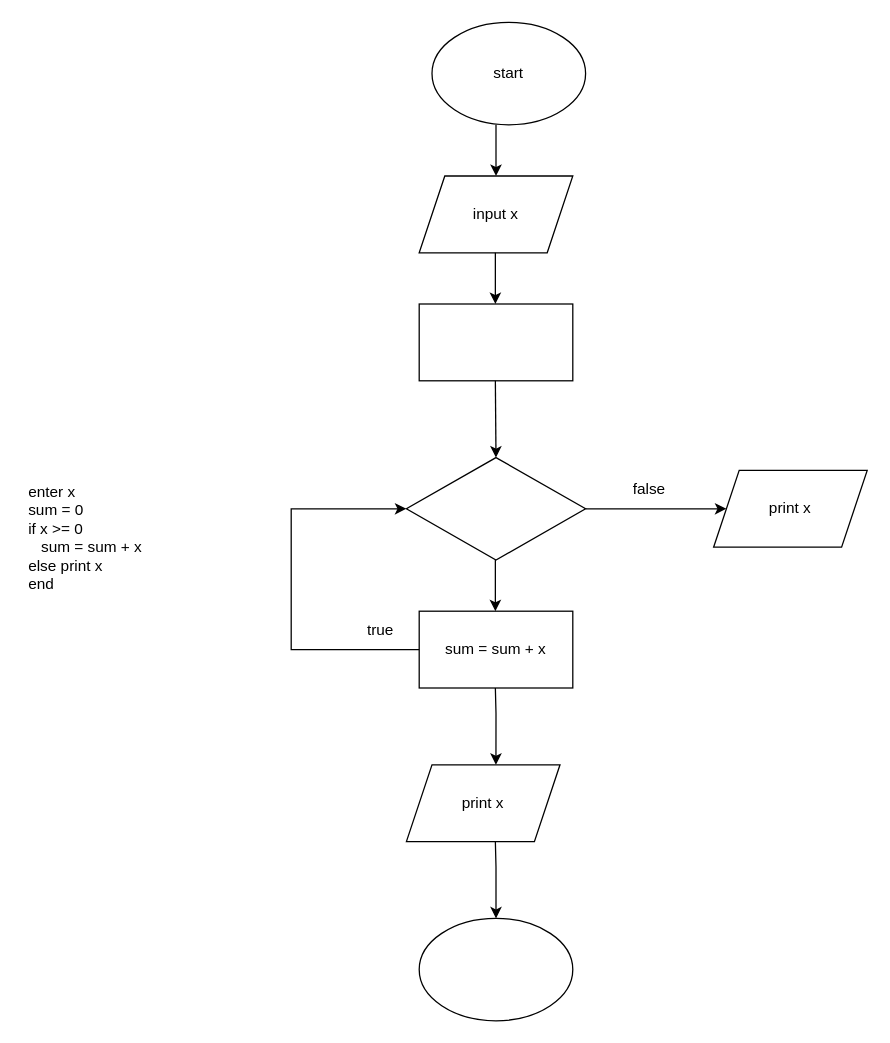
The diagram is 890 pixels wide and 1043 high, and some of its shapes have lost their labels. The centre of each missing label's shape, as x and y in pixels:
end: pixel 495 969
if x >= 0: pixel 495 508
sum = 0: pixel 495 342
